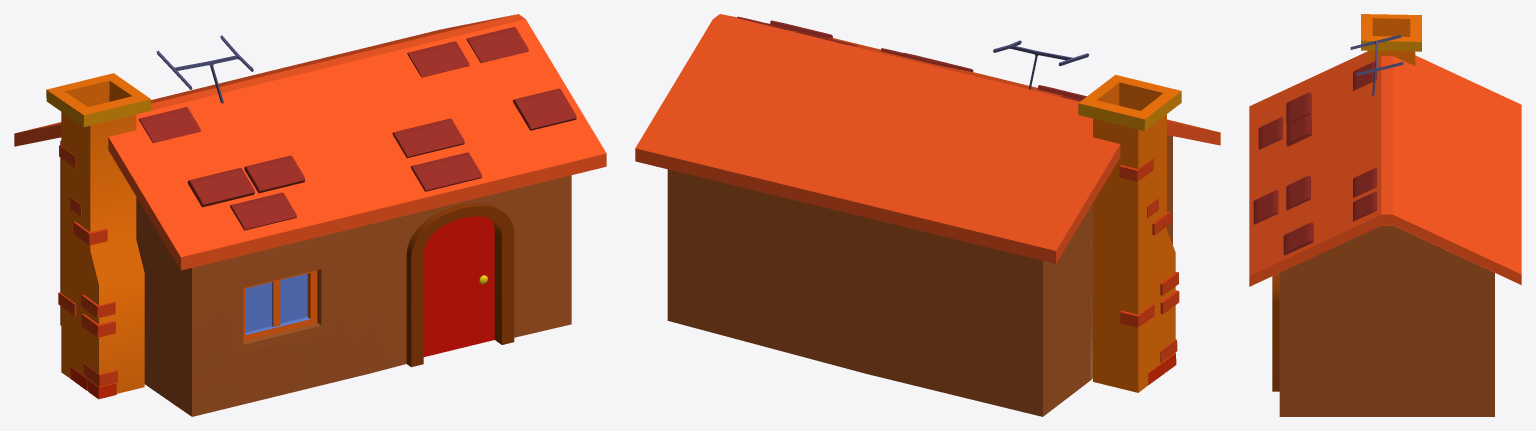
Rendered from house_04.fbx.
The picture shows the model from 3 angles, left to right: view 1: azimuth 30°, elevation 25°; view 2: azimuth 150°, elevation 25°; view 3: azimuth 270°, elevation 25°; orthographic projection. The views are drawn at different scales.
Parts seen in each view (by area): view 1: house_04; view 2: house_04; view 3: house_04.
Boxes of the visible parts, x1,y1,x2,y2 form: house_04: [14, 14, 606, 416]; house_04: [635, 14, 1220, 416]; house_04: [1249, 14, 1521, 416].
Bounding box in the file's own units: 390 × 251 × 247.
